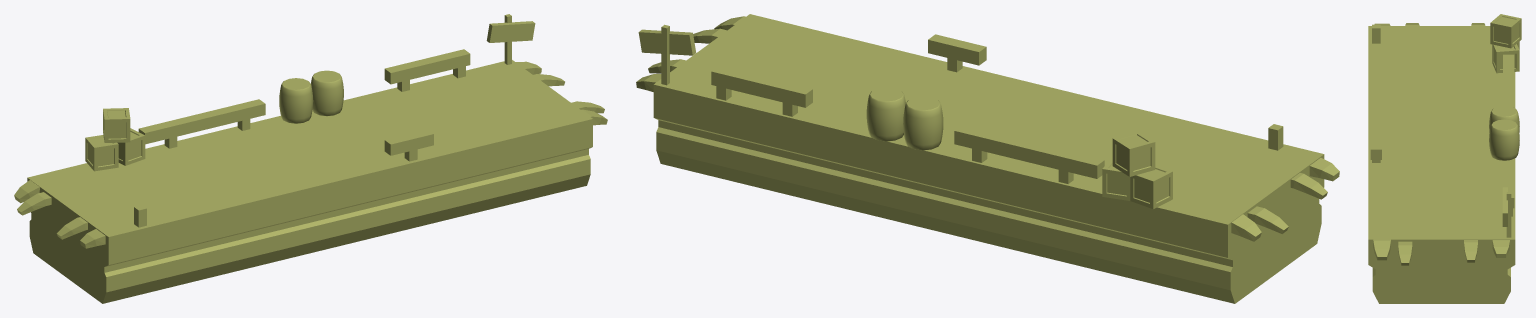
File: SM_Platform_Medium.fbx
3 renders of one model, left to right at view 1: azimuth 30°, elevation 25°; view 2: azimuth 150°, elevation 25°; view 3: azimuth 270°, elevation 25°, orthographic. The views are drawn at different scales.
Parts seen in each view (by area): view 1: Platform_Medium; view 2: Platform_Medium; view 3: Platform_Medium.
Part boxes in pixels (x1,y1,x2,y2): Platform_Medium: [14, 14, 607, 303]; Platform_Medium: [636, 14, 1339, 303]; Platform_Medium: [1368, 14, 1521, 303].
Size of the model in its own units: 2310 by 485 by 625.
